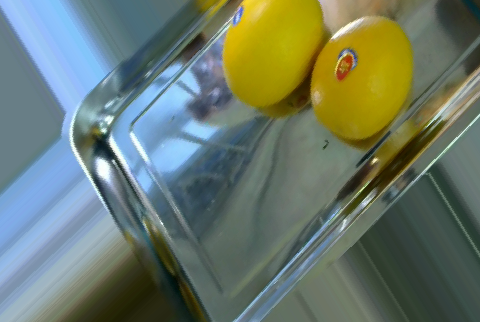Orange: (308, 15, 412, 140), (221, 0, 322, 107)
